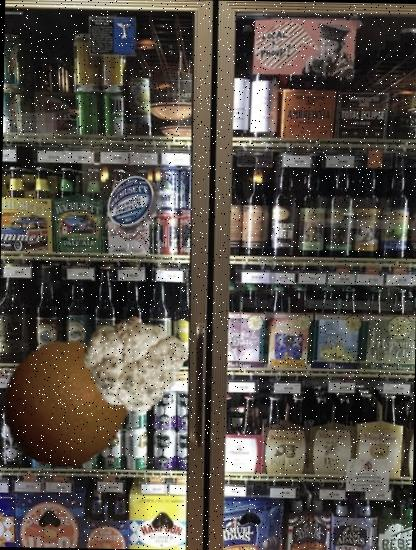Cauliflower: (78, 310, 186, 418)
Orange: (0, 338, 128, 468)
